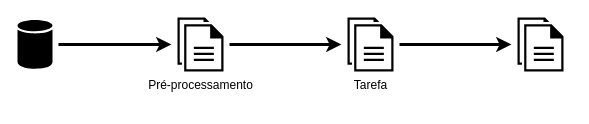
Image size: 589x124. Some labels were removed from this diagram. Each missing label, with the centre of its shape:
"Análise Quantitativa" belongs at point (540, 44).
"Dados" belongs at point (34, 44).
